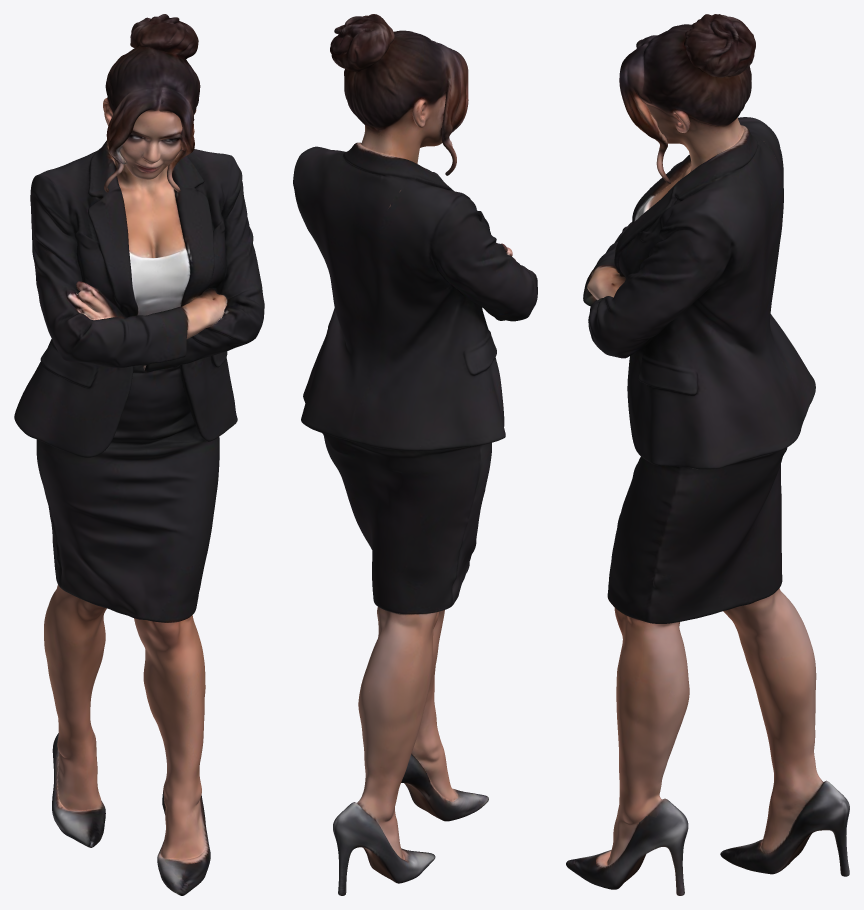
File: businesswoman+3d+model (1).glb
3 views of the same model, side by side, from view 1: azimuth 30°, elevation 25°; view 2: azimuth 150°, elevation 25°; view 3: azimuth 270°, elevation 25° (orthographic). The views are drawn at different scales.
Visible parts, largest first — view 1: tripo_node_14da2687-9061-4385-8cca-d758a14911e7; view 2: tripo_node_14da2687-9061-4385-8cca-d758a14911e7; view 3: tripo_node_14da2687-9061-4385-8cca-d758a14911e7.
Boxes of the visible parts, <box> form: tripo_node_14da2687-9061-4385-8cca-d758a14911e7: <box>14,14,264,895</box>; tripo_node_14da2687-9061-4385-8cca-d758a14911e7: <box>293,14,537,895</box>; tripo_node_14da2687-9061-4385-8cca-d758a14911e7: <box>566,14,849,895</box>.
Bounding box in the file's own units: 0.2659 × 1 × 0.2937.
Materials: 1 (1 with a texture image).
